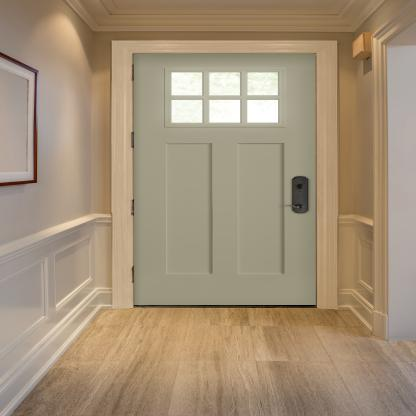door: (134, 53, 316, 304)
hinged: (131, 265, 136, 283), (131, 132, 136, 148), (132, 198, 136, 216), (132, 64, 135, 81)
lever: (278, 204, 307, 210)
